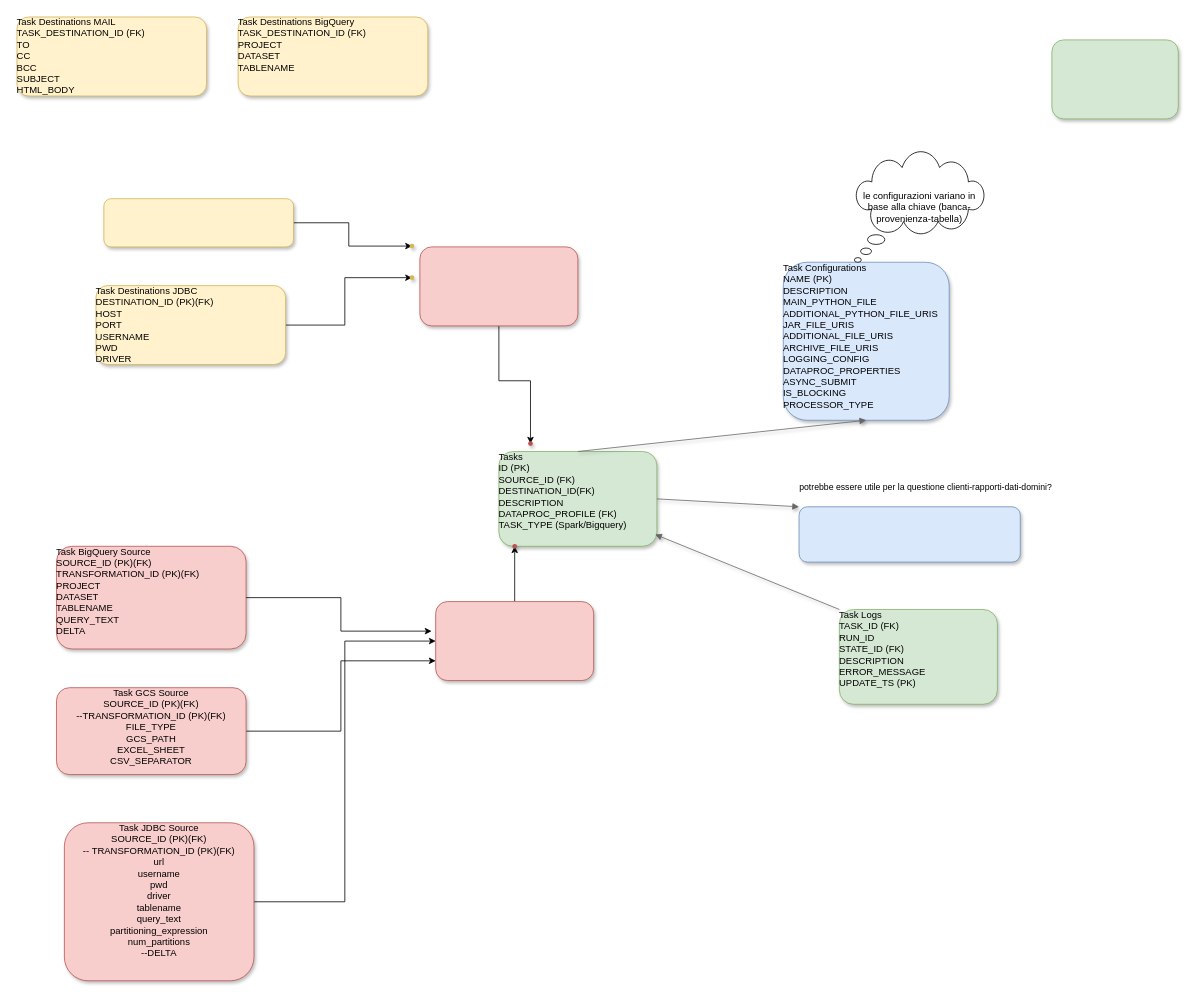
Image size: 1197x1000. Some labels were removed from this diagram. The centre of each missing label's shape, as x and y in pixels:
Configurations CONFIG_NAME (PK) CONFIG_VALUE: pixel 1115 80
Task Destinations GCS TASK_DESTINATION_ID (FK) FORMAT_FILE GCS_PATH: pixel 199 223
Task Destinations ID (PK) SOURCE_ID (FK) TYPE_OF_DESTINATION (JDBC, File): pixel 499 287
Task Group Task_id Group_name PRIMARY KEY (TASK_ID, group_name): pixel 910 535
Task Sources ID (PK) SOURCE_ID (FK) TYPE_OF_SOURCE (BigQuery, JDBC, File): pixel 515 642
